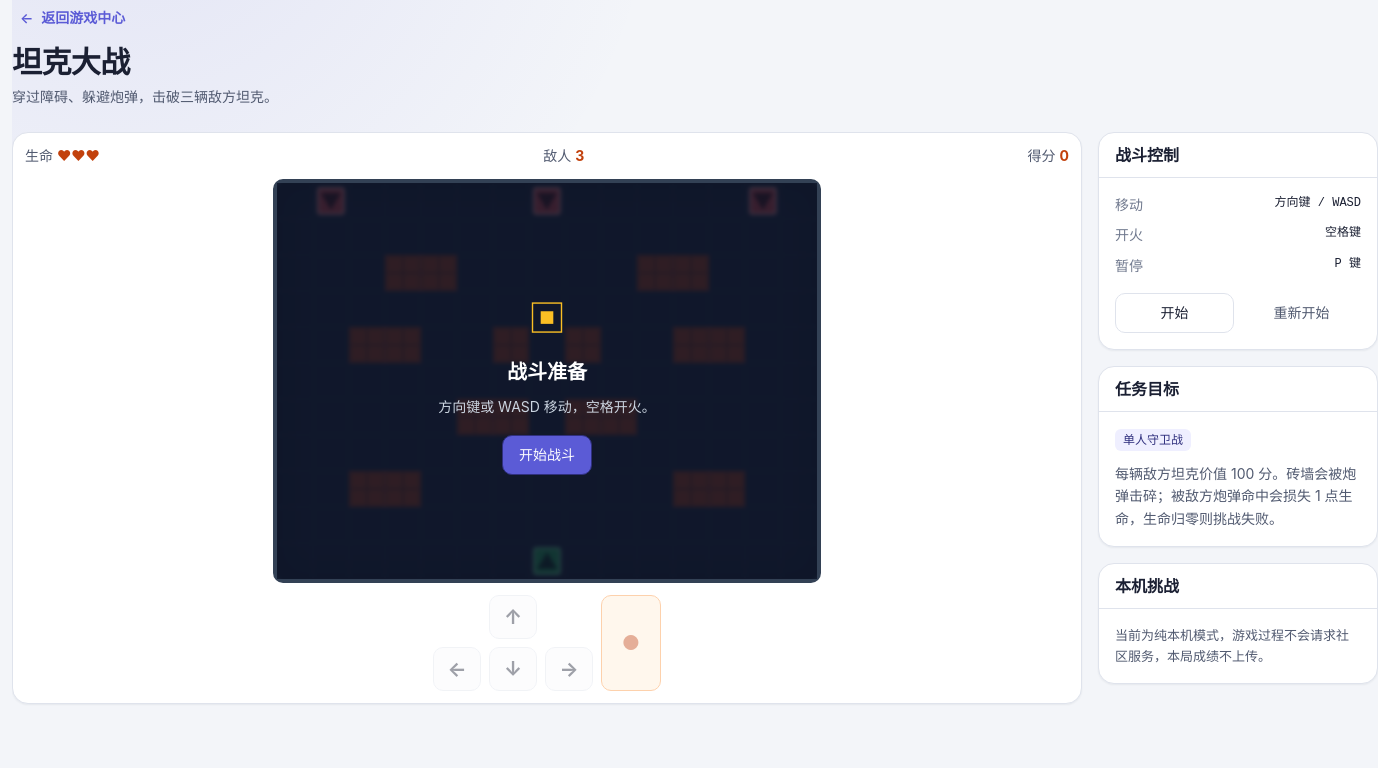
Test case: TankBattlePage › starts combat, moves, fires, and pauses from the visible controls
The image size is (1378, 768).
Click the button "开始战斗": x=547, y=455 [502, 435, 592, 475]
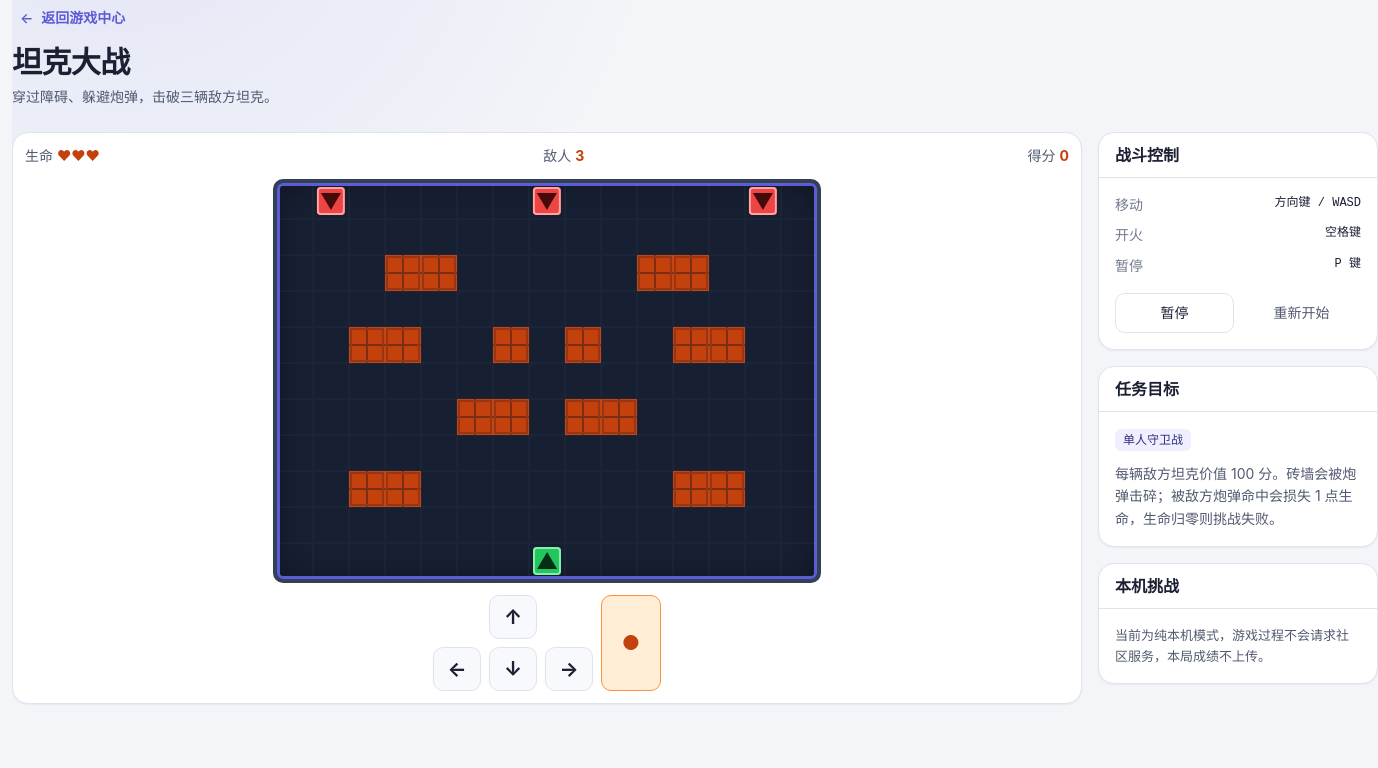
Click the button named "向左": x=457, y=669 [433, 647, 481, 691]
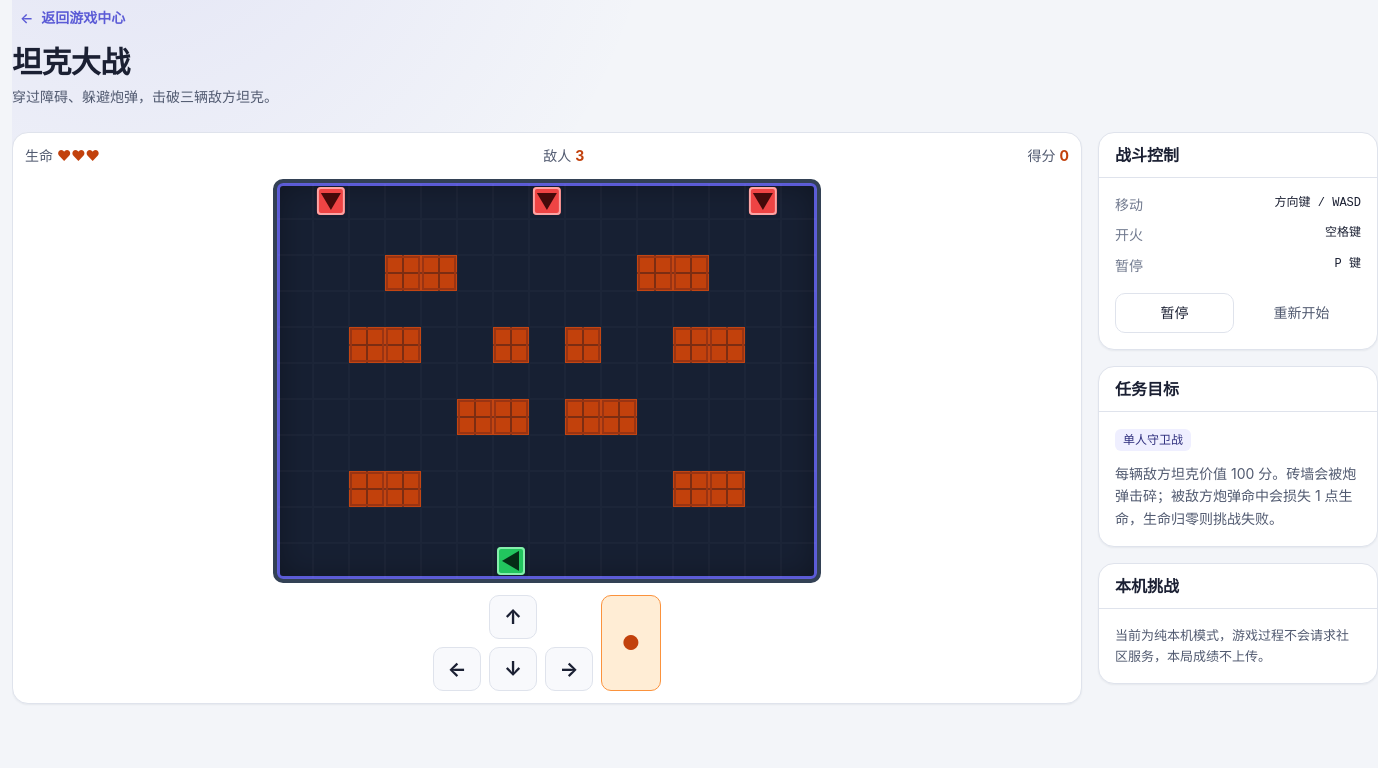
Click the button named "开火": x=631, y=643 [601, 595, 661, 691]
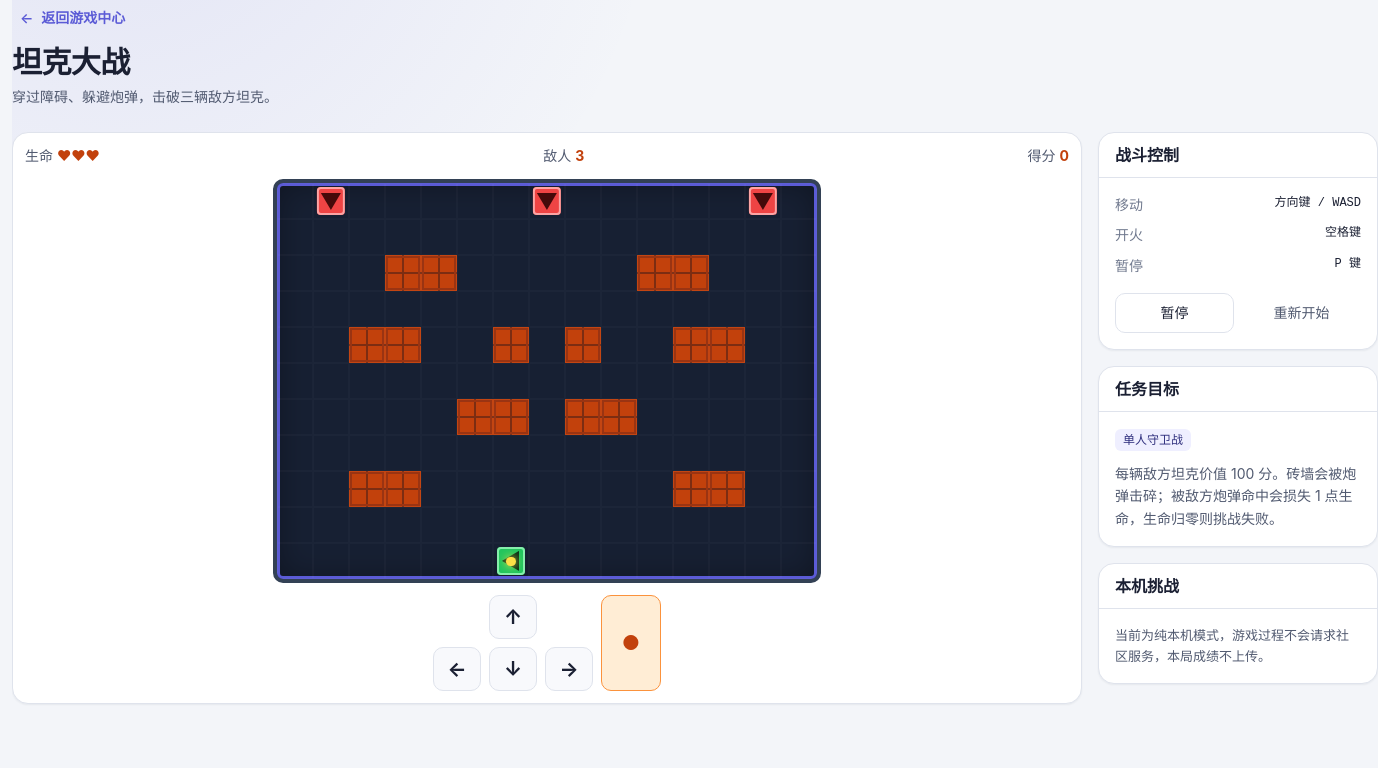
Click the button "暂停": x=1174, y=313 [1115, 293, 1234, 333]
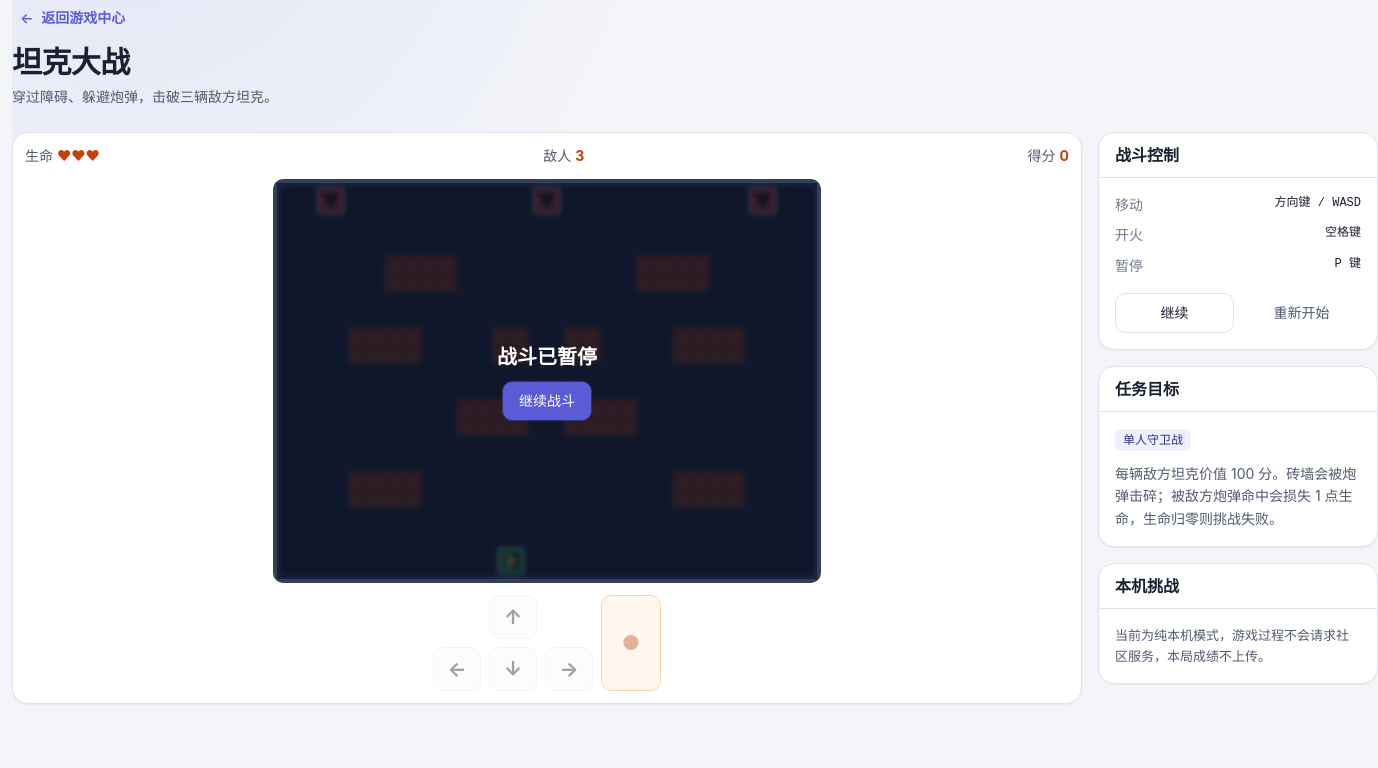
Expected: the text "战斗已暂停" is shown, [497, 341, 597, 373]
Expected: the button "继续战斗" is enabled, [502, 381, 592, 421]
